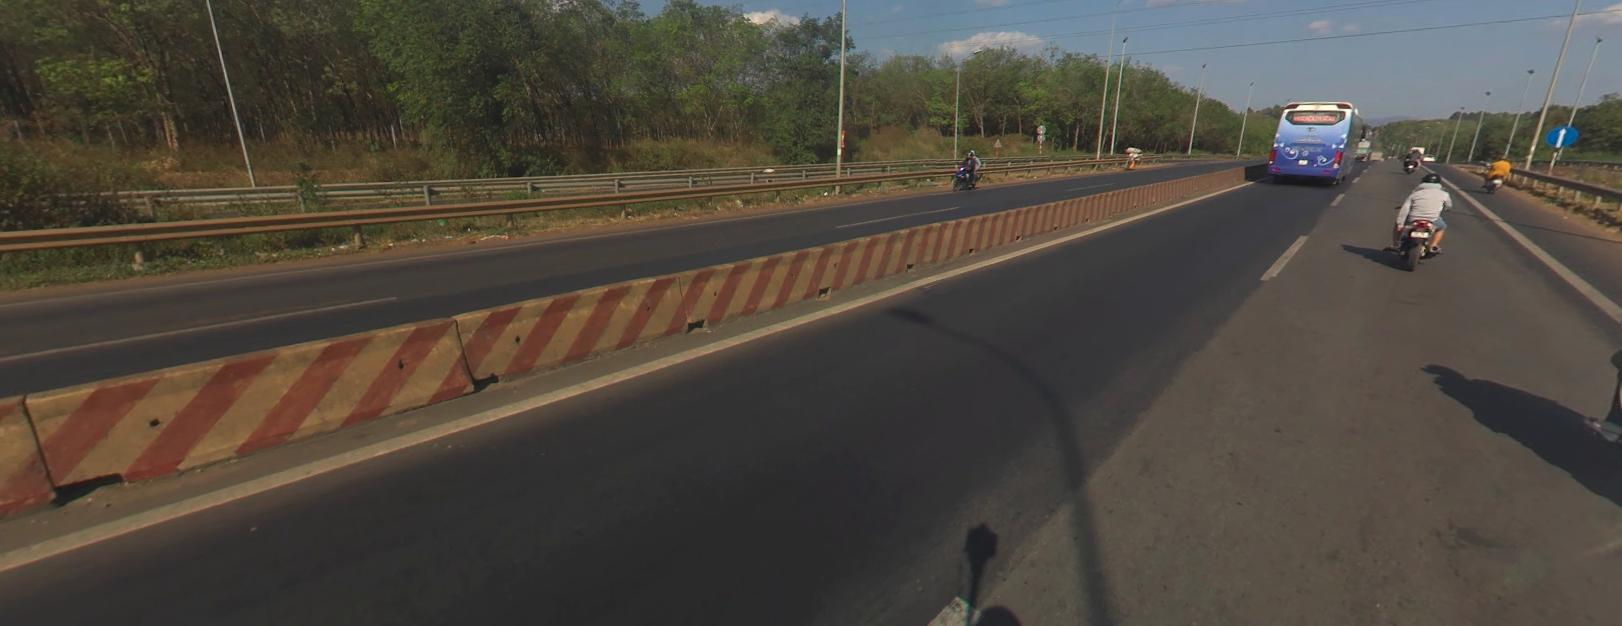Hieu lenh: (1545, 121, 1578, 146), (1545, 123, 1578, 147), (1544, 124, 1576, 147), (1545, 124, 1580, 145)
